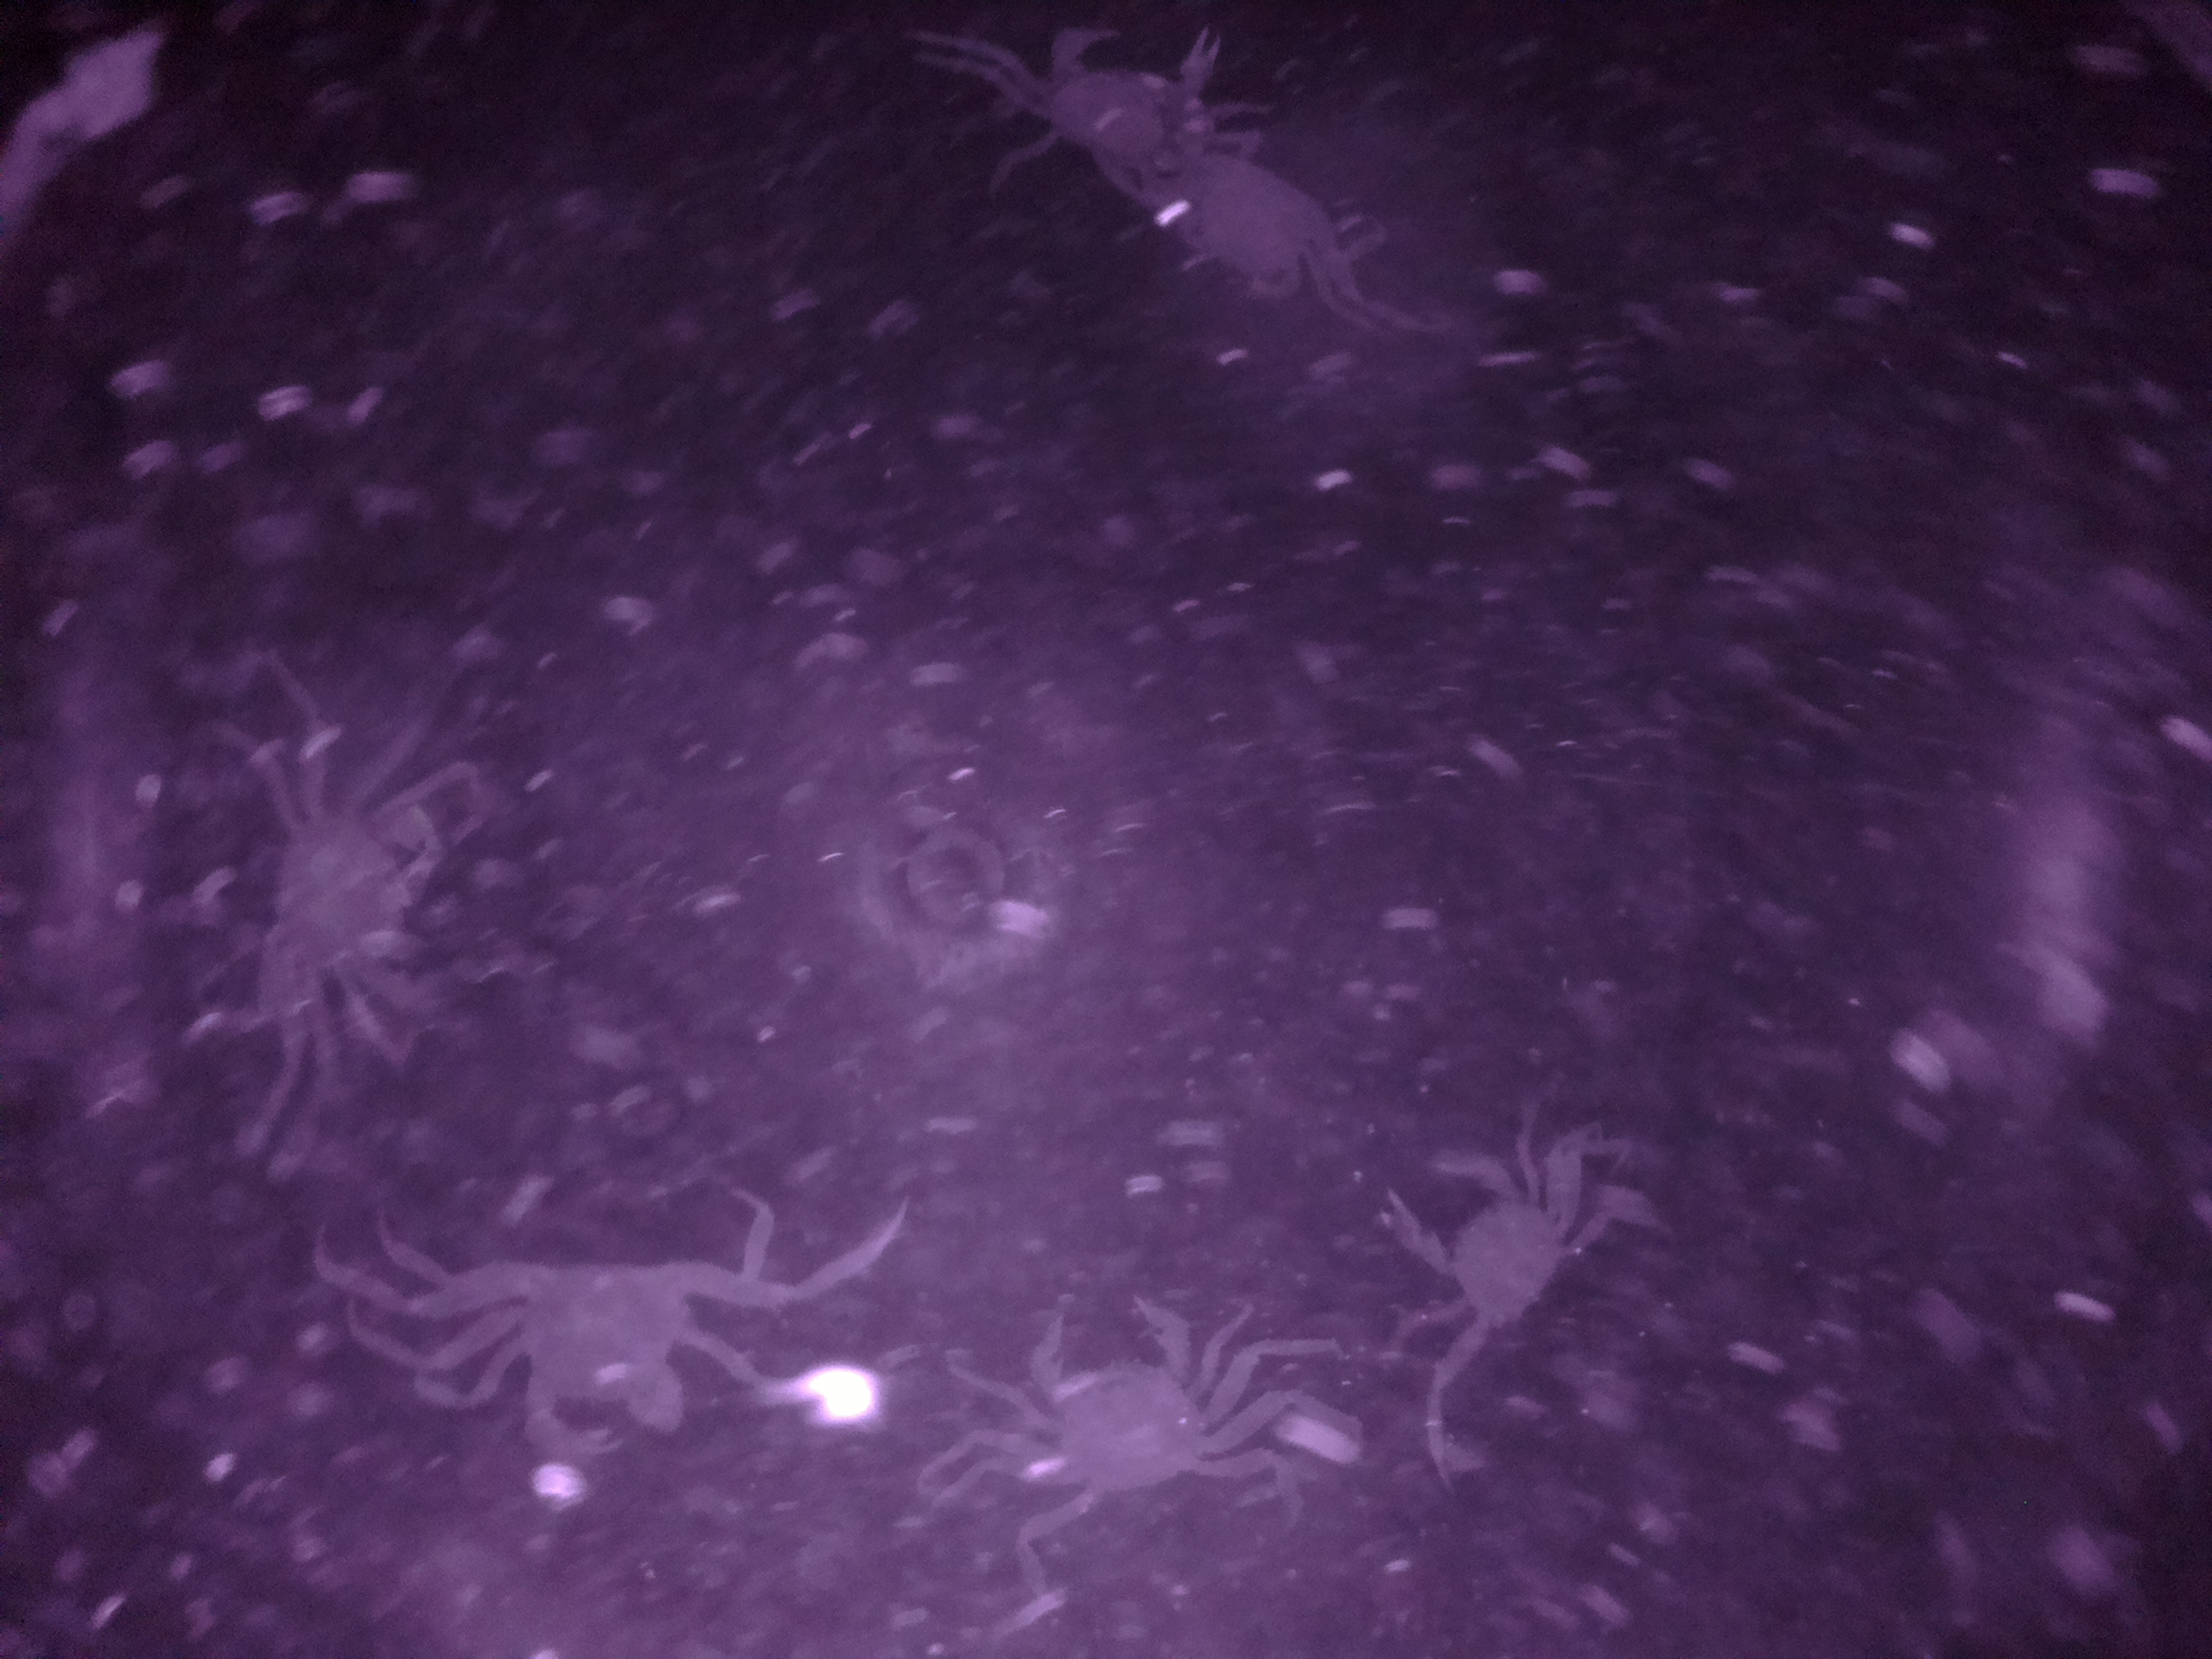Crab: (972, 1279, 1228, 1534), (474, 1230, 728, 1467), (1359, 1136, 1594, 1352)
